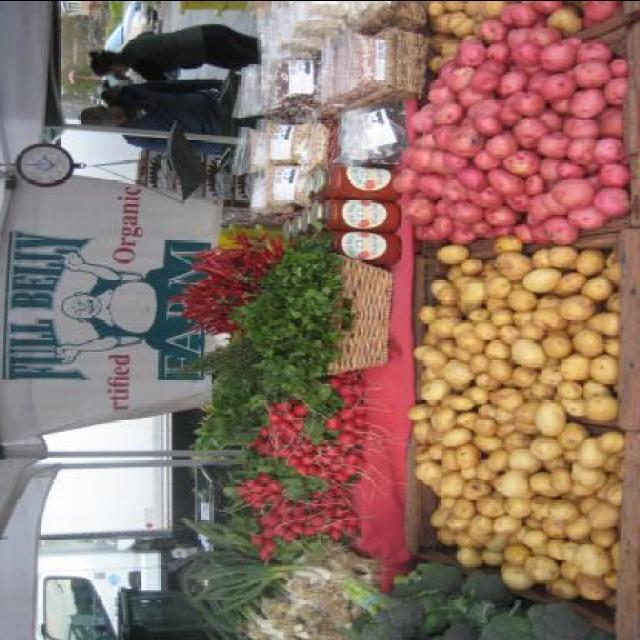Potato: (386, 2, 634, 610)
